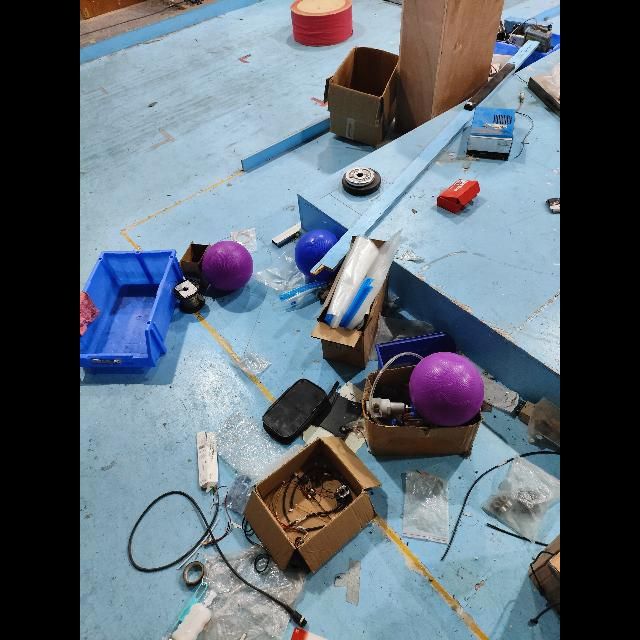B: (294, 230, 342, 280)
P: (409, 348, 485, 428), (200, 240, 254, 292)
